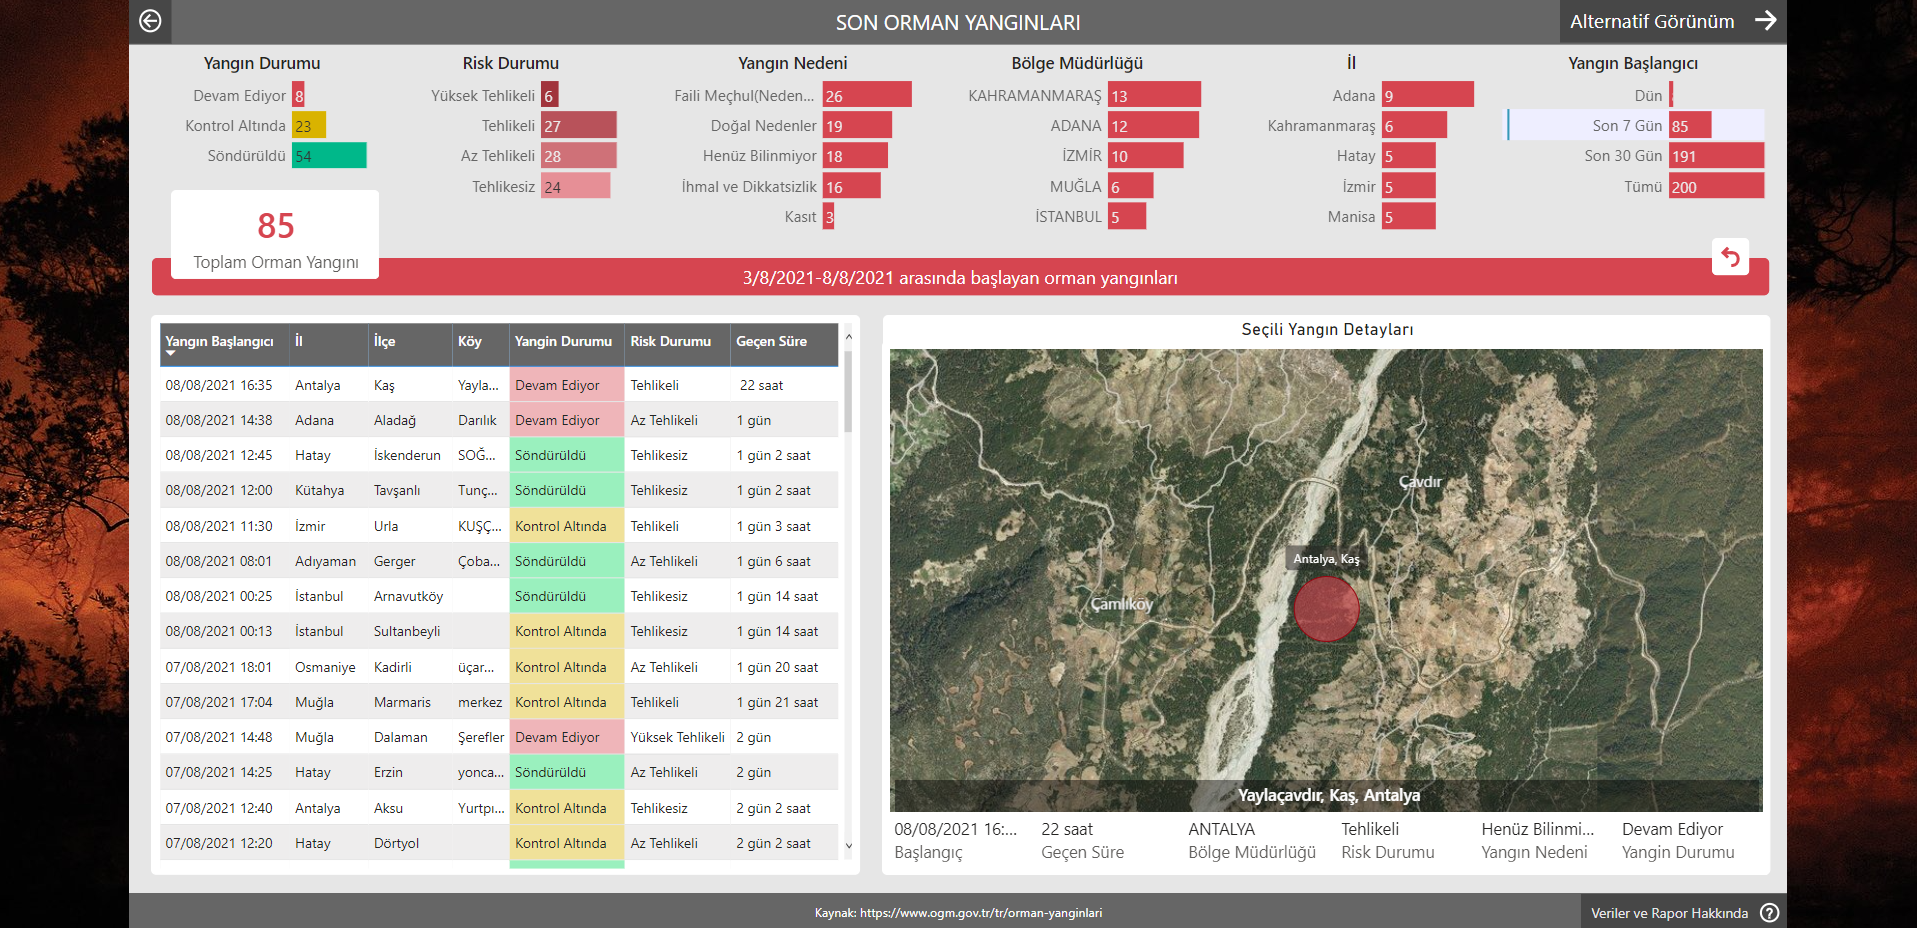

This screenshot's page, from the dashboard's own definition file:
{"tool":"powerbi","page":{"name":"Son Yangınlar Uydu Görünümü","canvas":[1600,900],"ordinal":2},"visuals":[{"type":"shape","title":"Seçili Yangın Detayları","box":[726.9,306,855.5,539.8],"z":0},{"type":"tableEx","fields":{"Values":["Son 200 Yangın.DateTime","Son 200 Yangın.IlAdi","Son 200 Yangın.IlceAdi","Son 200 Yangın.Koyu","Son 200 Yangın.YanginDurumu","Son 200 Yangın.RiskDurumu","Son 200 Yangın.Geçen Süre"]},"box":[21.4,306,684,539.8],"z":2000},{"type":"AttributeSlicer1652434005853","title":"Yangın Durumu","fields":{"Category":["Son 200 Yangın.YanginDurumu"],"Values":["CountNonNull(Son 200 Yangın.Başlangıç)"],"Color":["Son 200 Yangın.YanginDurumu"]},"box":[21.8,50.9,212.4,157.1],"z":3000},{"type":"actionButton","box":[0,0,1600,44.8],"z":4000},{"type":"AttributeSlicer1652434005853","title":"Risk Durumu","fields":{"Category":["Son 200 Yangın.RiskDurumu"],"Values":["CountNonNull(Son 200 Yangın.Başlangıç)"],"Series":["Son 200 Yangın.Risk"]},"box":[261.8,50.9,213.8,157.1],"z":5000},{"type":"AttributeSlicer1652434005853","title":"Yangın Nedeni","fields":{"Values":["CountNonNull(Son 200 Yangın.Başlangıç)"],"Category":["Son 200 Yangın.YanginNedeni"],"Color":["Son 200 Yangın.YanginNedeni"]},"box":[513.5,50.9,254.5,180.4],"z":6000},{"type":"actionButton","box":[0,863.7,1600.3,36.3],"z":7000},{"type":"actionButton","box":[22.4,250.7,1559.7,35.8],"z":8000},{"type":"AttributeSlicer1652434005853","title":"Bölge Müdürlüğü","fields":{"Values":["CountNonNull(Son 200 Yangın.Başlangıç)"],"Category":["Son 200 Yangın.Bölge Müdürlüğü"],"Color":["Son 200 Yangın.Bölge Müdürlüğü"]},"box":[782.5,50.9,264.7,180.4],"z":9000},{"type":"AttributeSlicer1652434005853","title":"İl","fields":{"Values":["CountNonNull(Son 200 Yangın.Başlangıç)"],"Category":["Son 200 Yangın.İl"],"Color":["Son 200 Yangın.İl"]},"box":[1047.3,50.9,263.3,180.4],"z":10000},{"type":"AttributeSlicer1652434005853","title":"Yangın Başlangıcı","fields":{"Category":["SpecialDates.Period"],"Color":["SpecialDates.Period"],"Values":["CountNonNull(Son 200 Yangın.Risk)"]},"box":[1319.4,50.7,263.1,181.2],"z":11000},{"type":"card","fields":{"Values":["Son 200 Yangın.Yangın Sayısı"]},"box":[40.7,184.7,200.7,85.8],"z":12000},{"type":"actionButton","box":[1527.3,231.3,36.4,36.4],"z":13000},{"type":"actionButton","box":[0,0,181.9,42.7],"z":14000},{"type":"actionButton","box":[1400.3,864.2,199.8,35.8],"z":15000},{"type":"actionButton","box":[1529.9,315.6,33.1,31.7],"z":16000},{"type":"map","title":"Seçili Yangın","fields":{"Y":["Son 200 Yangın.Latitude"],"X":["Son 200 Yangın.Longitude"],"Series":["Son 200 Yangın.Yangin Durumu"],"Size":["Sum(Son 200 Yangın.Risk)"],"Category":["Son 200 Yangın.İl İlçe"]},"box":[726.3,330.8,855.9,515.5],"z":17000},{"type":"card","fields":{"Values":["Min(Son 200 Yangın.Konum)"]},"box":[738.7,753.9,833.8,31.7],"z":20000},{"type":"multiRowCard","fields":{"Values":["Min(Son 200 Yangın.Risk Durumu)","Min(Son 200 Yangın.Yangın Nedeni)","Min(Son 200 Yangın.Yangin Durumu)"]},"box":[1164.6,785.6,416.2,60.6],"z":21500},{"type":"multiRowCard","fields":{"Values":["Min(Son 200 Yangın.Başlangıç)","Min(Son 200 Yangın.Geçen Süre)","Min(Son 200 Yangın.Bölge Müdürlüğü)"]},"box":[733.2,785.6,435.5,56.5],"z":22000}]}

Visuals, with their boxes on the page's 1600x900 design canvas (x1, y1, x2, y2). These are canvas units, not pixel positions in the 1917x928 screenshot, which may show the page scaled, cropped or inside an application window:
"Seçili Yangın Detayları" shape: <bbox>727, 306, 1582, 846</bbox>
tableEx - Son 200 Yangın.DateTime x Son 200 Yangın.IlAdi: <bbox>21, 306, 705, 846</bbox>
"Yangın Durumu" AttributeSlicer1652434005853: <bbox>22, 51, 234, 208</bbox>
actionButton: <bbox>0, 0, 1600, 45</bbox>
"Risk Durumu" AttributeSlicer1652434005853: <bbox>262, 51, 476, 208</bbox>
"Yangın Nedeni" AttributeSlicer1652434005853: <bbox>514, 51, 768, 231</bbox>
actionButton: <bbox>0, 864, 1600, 900</bbox>
actionButton: <bbox>22, 251, 1582, 286</bbox>
"Bölge Müdürlüğü" AttributeSlicer1652434005853: <bbox>782, 51, 1047, 231</bbox>
"İl" AttributeSlicer1652434005853: <bbox>1047, 51, 1311, 231</bbox>
"Yangın Başlangıcı" AttributeSlicer1652434005853: <bbox>1319, 51, 1582, 232</bbox>
card - Son 200 Yangın.Yangın Sayısı: <bbox>41, 185, 241, 270</bbox>
actionButton: <bbox>1527, 231, 1564, 268</bbox>
actionButton: <bbox>0, 0, 182, 43</bbox>
actionButton: <bbox>1400, 864, 1600, 900</bbox>
actionButton: <bbox>1530, 316, 1563, 347</bbox>
"Seçili Yangın" map: <bbox>726, 331, 1582, 846</bbox>
card - Min(Son 200 Yangın.Konum): <bbox>739, 754, 1572, 786</bbox>
multiRowCard - Min(Son 200 Yangın.Risk Durumu) x Min(Son 200 Yangın.Yangın Nedeni): <bbox>1165, 786, 1581, 846</bbox>
multiRowCard - Min(Son 200 Yangın.Başlangıç) x Min(Son 200 Yangın.Geçen Süre): <bbox>733, 786, 1169, 842</bbox>
